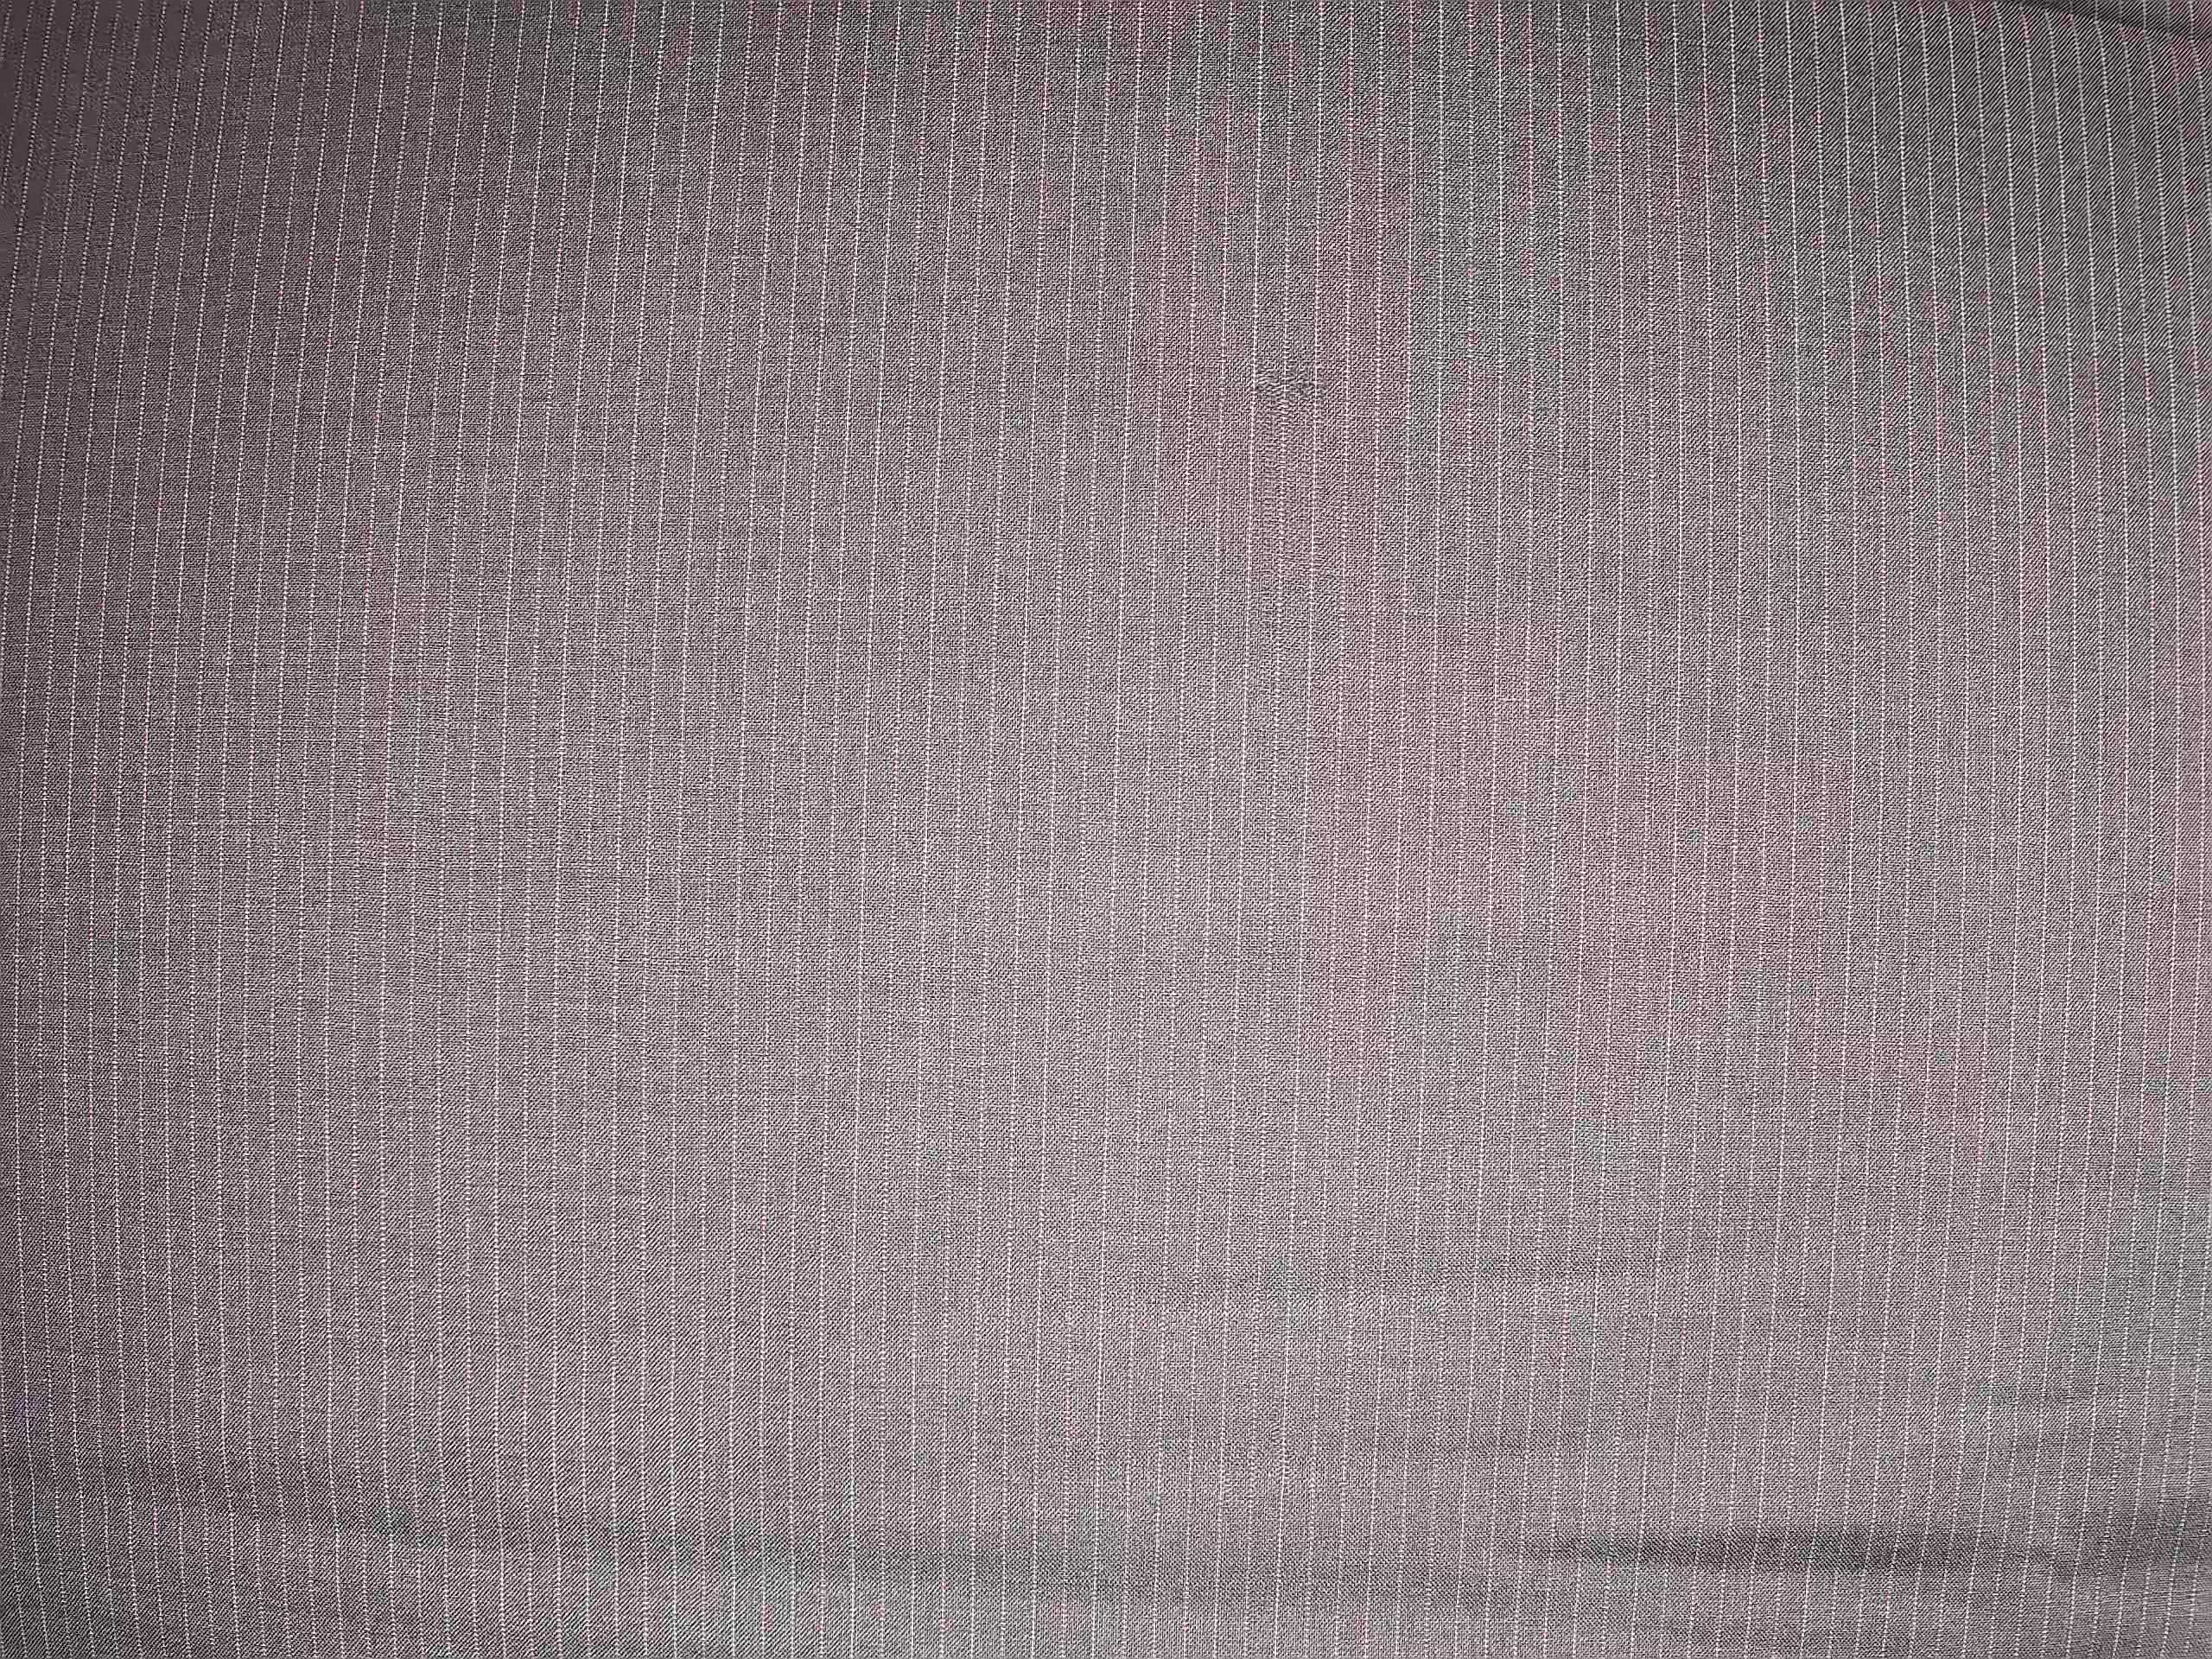knots: (1235, 326, 1374, 443)
